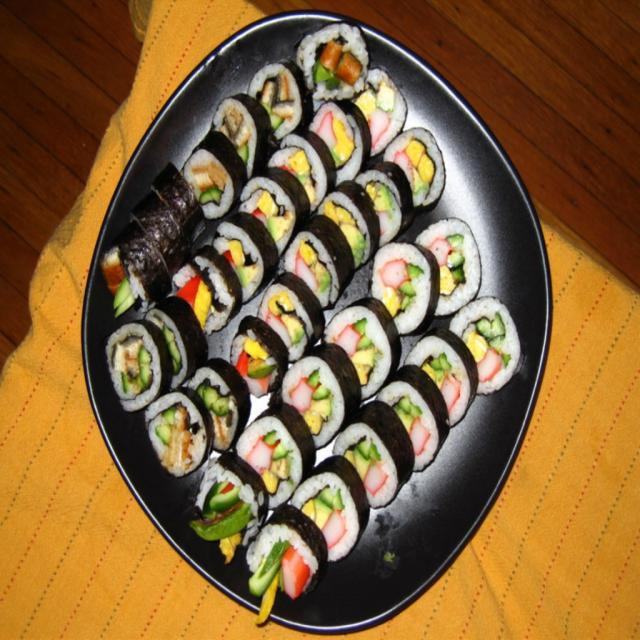ceramic plate: (70, 27, 552, 616)
